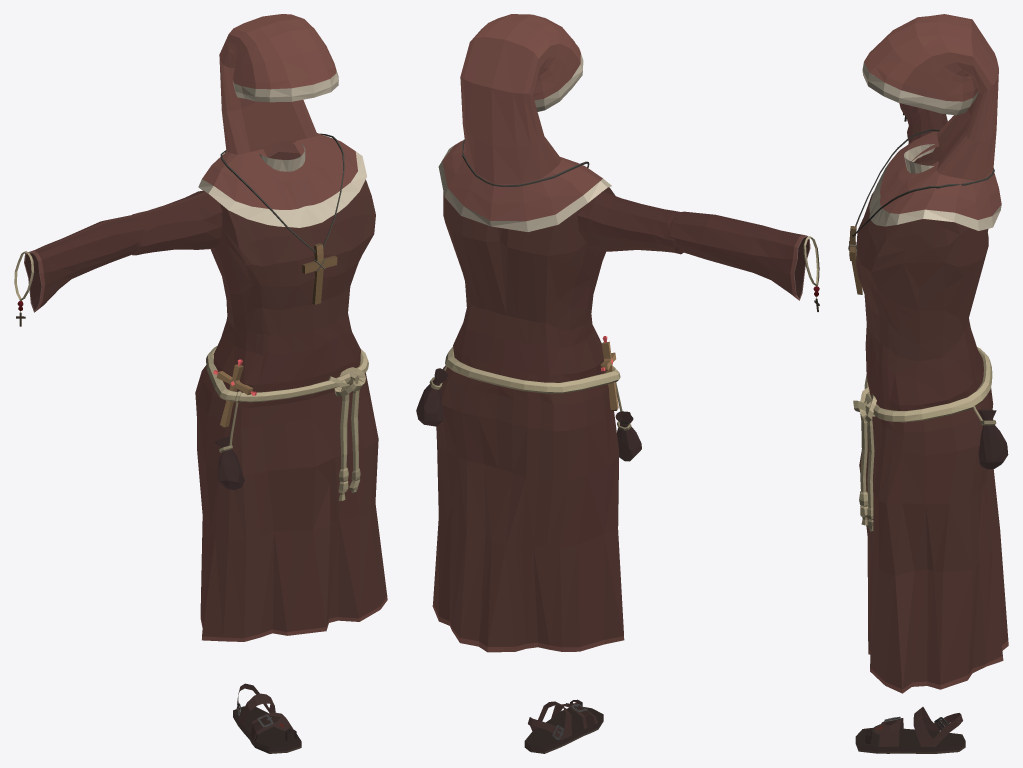
Rendered from monkFemale.glb.
3 views of the same model, side by side, from view 1: azimuth 30°, elevation 25°; view 2: azimuth 150°, elevation 25°; view 3: azimuth 270°, elevation 25° (orthographic). The views are drawn at different scales.
Parts seen in each view (by area): view 1: monkRopeBody, monkHair, monkRopeLowerArm, monkRopeUpperArm, monkSandles; view 2: monkRopeBody, monkHair, monkRopeLowerArm, monkRopeUpperArm, monkSandles; view 3: monkRopeBody, monkHair, monkSandles, monkRopeUpperArm, monkRopeLowerArm.
Part boxes in pixels (bbox=[...]): monkRopeBody: bbox=[195, 133, 387, 641]; monkHair: bbox=[219, 14, 338, 171]; monkRopeLowerArm: bbox=[24, 215, 146, 312]; monkRopeUpperArm: bbox=[132, 190, 222, 255]; monkSandles: bbox=[233, 683, 301, 753]; monkRopeBody: bbox=[416, 139, 641, 652]; monkHair: bbox=[460, 14, 583, 183]; monkRopeLowerArm: bbox=[666, 211, 810, 300]; monkRopeUpperArm: bbox=[577, 191, 683, 254]; monkSandles: bbox=[524, 699, 603, 753]; monkRopeBody: bbox=[848, 129, 1008, 693]; monkHair: bbox=[862, 14, 998, 180]; monkSandles: bbox=[855, 707, 965, 753]; monkRopeUpperArm: bbox=[907, 109, 945, 144]; monkRopeLowerArm: bbox=[899, 103, 947, 125].
Size of the model in its own units: 1.08 by 1.94 by 0.3828.
